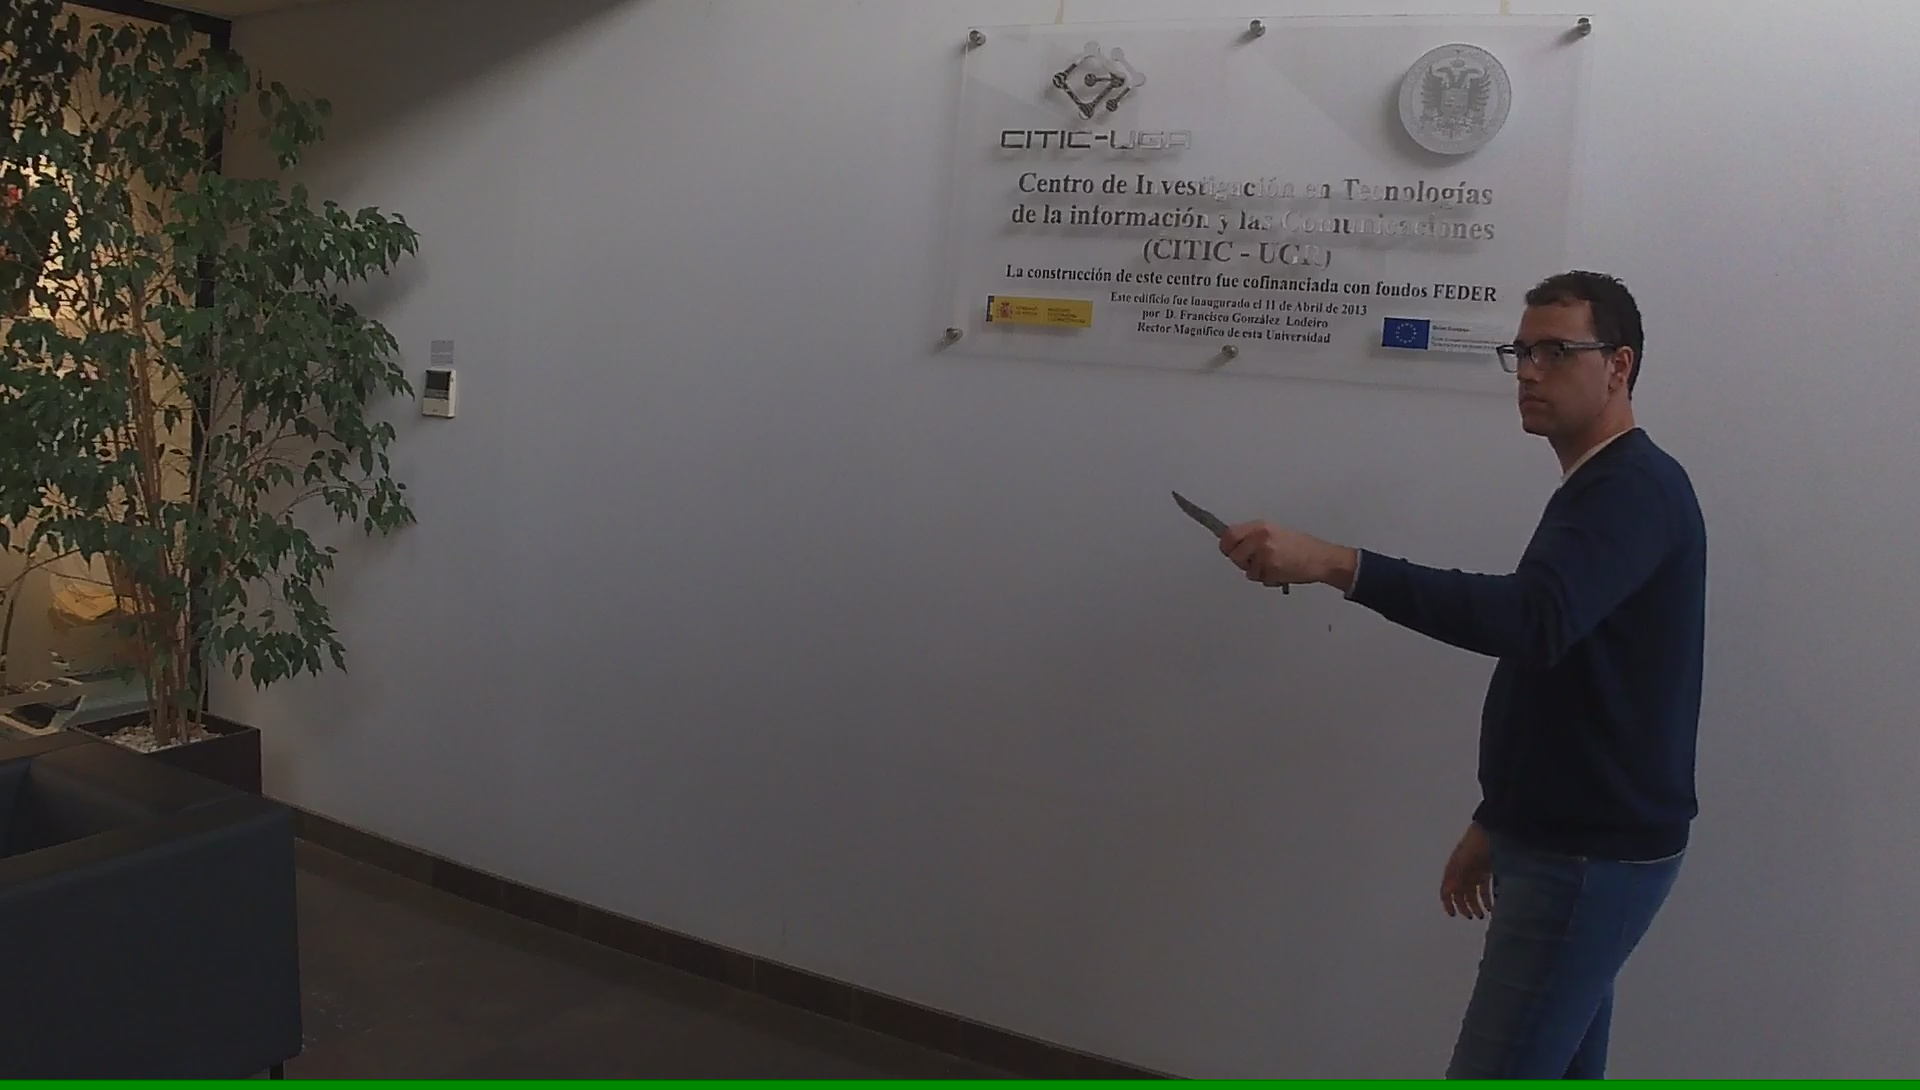knife: (1164, 482, 1298, 602)
